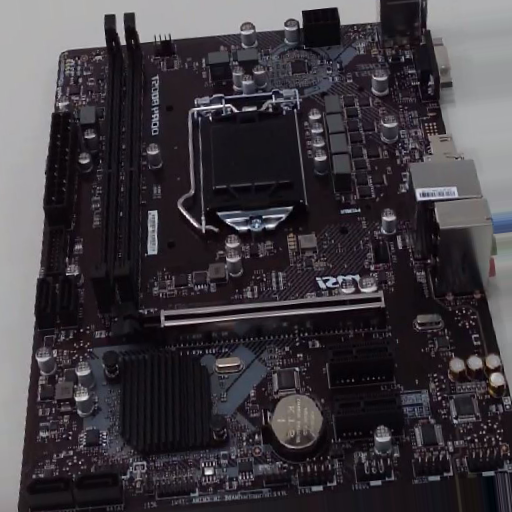CPU: (197, 91, 304, 235)
GPU: (109, 289, 388, 344)
MOTHERBOARD: (16, 20, 509, 512)
RAM: (93, 13, 138, 310)
